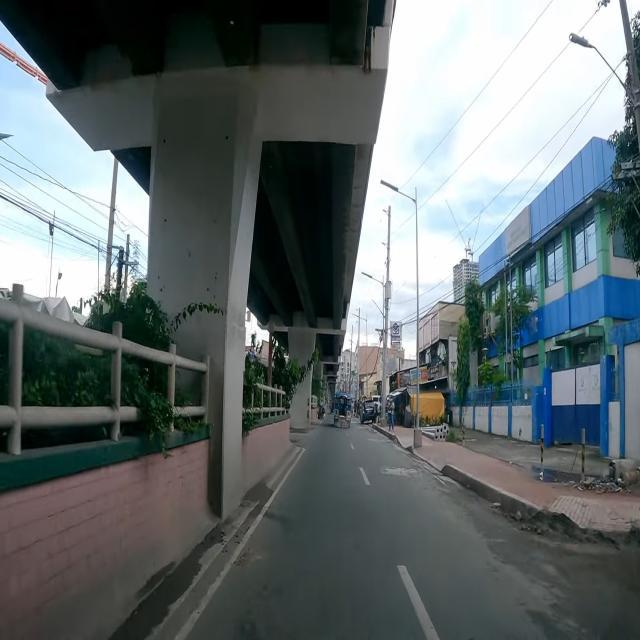car: (360, 400, 376, 424)
jeepney: (334, 393, 352, 428)
